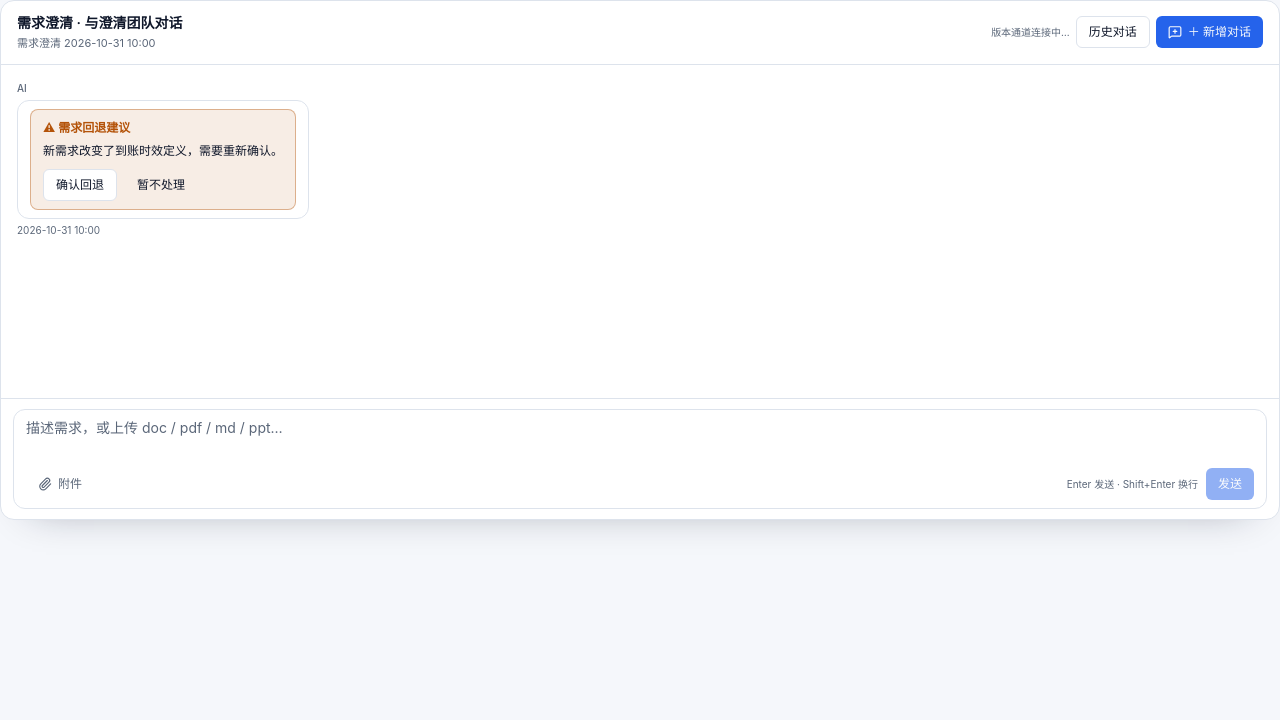
Test case: ChatPanel › confirms a rollback proposal and notifies the workspace
Expected: the text "新需求改变了到账时效定义，需要重新确认。" is shown, [43, 141, 283, 160]
Step 1. Click the button "确认回退" → (80, 184), box [43, 168, 117, 200]
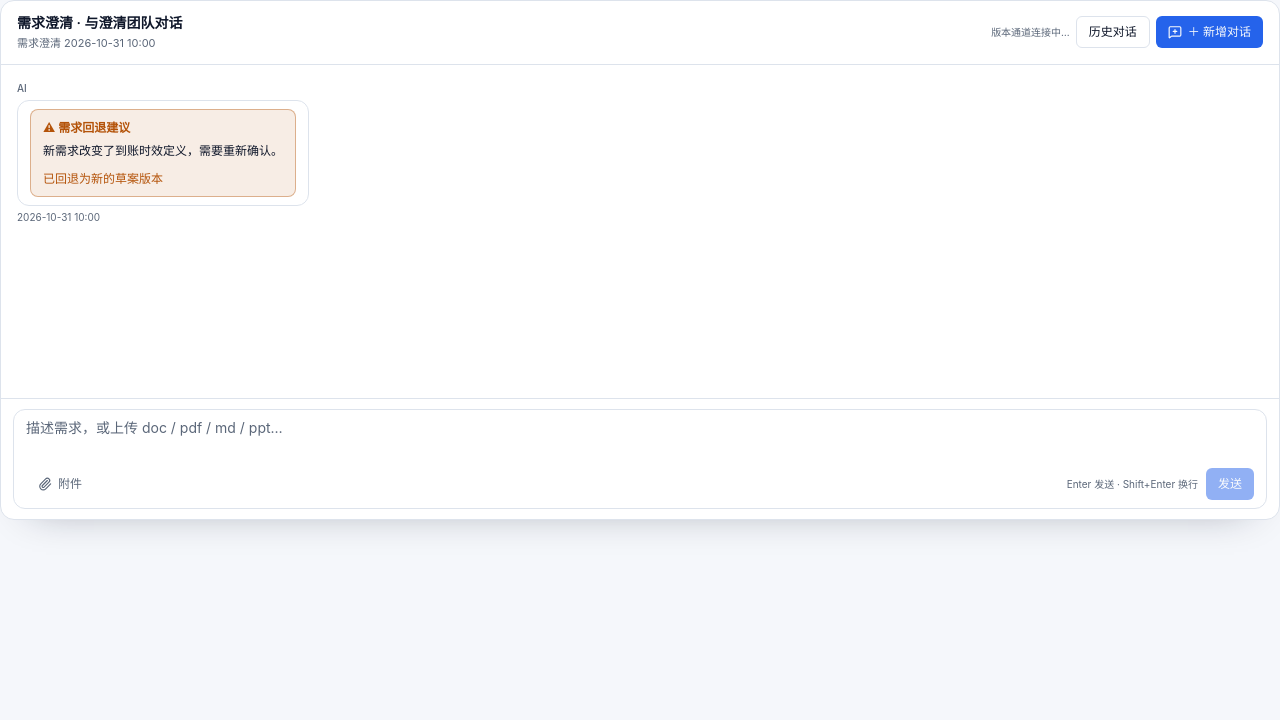
Result: the text "已回退为新的草案版本" is shown at [43, 170, 163, 186]
